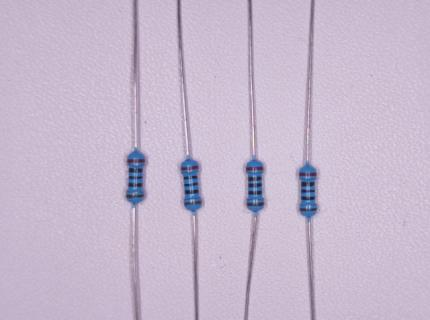Black band: (300, 182, 316, 187), (184, 182, 199, 187), (301, 196, 315, 201), (248, 176, 262, 181), (248, 183, 262, 188), (185, 189, 199, 194), (129, 168, 143, 173), (301, 189, 316, 193), (248, 191, 263, 195), (183, 176, 198, 180), (128, 183, 143, 187), (129, 176, 143, 180)
Brown band: (184, 200, 202, 206), (126, 194, 144, 199), (300, 207, 317, 212), (246, 202, 265, 206)
Red band: (181, 165, 199, 171), (299, 172, 317, 177), (127, 159, 145, 163), (246, 167, 264, 171)
